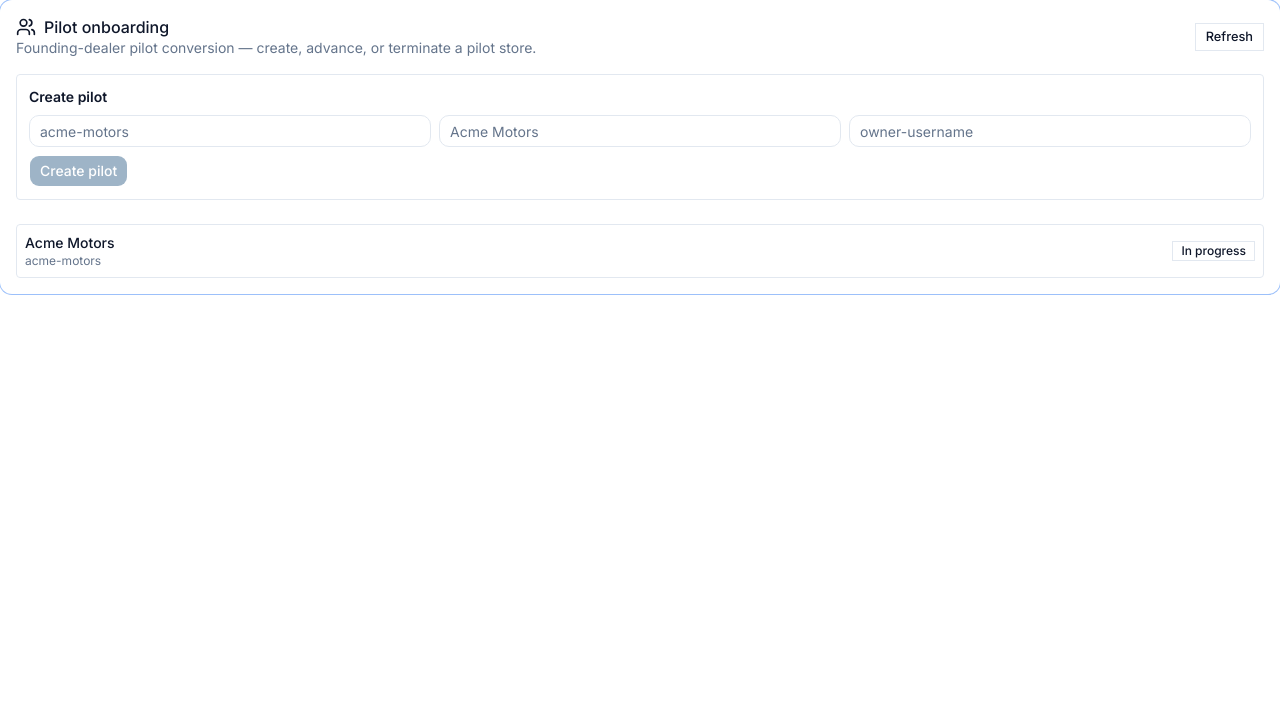
Test: PilotOnboardingSection › displays checklist steps in fixed vocab order
Click the button with test id "pilot-row-acme-motors".
click(70, 242)  # box [16,224,1264,278]
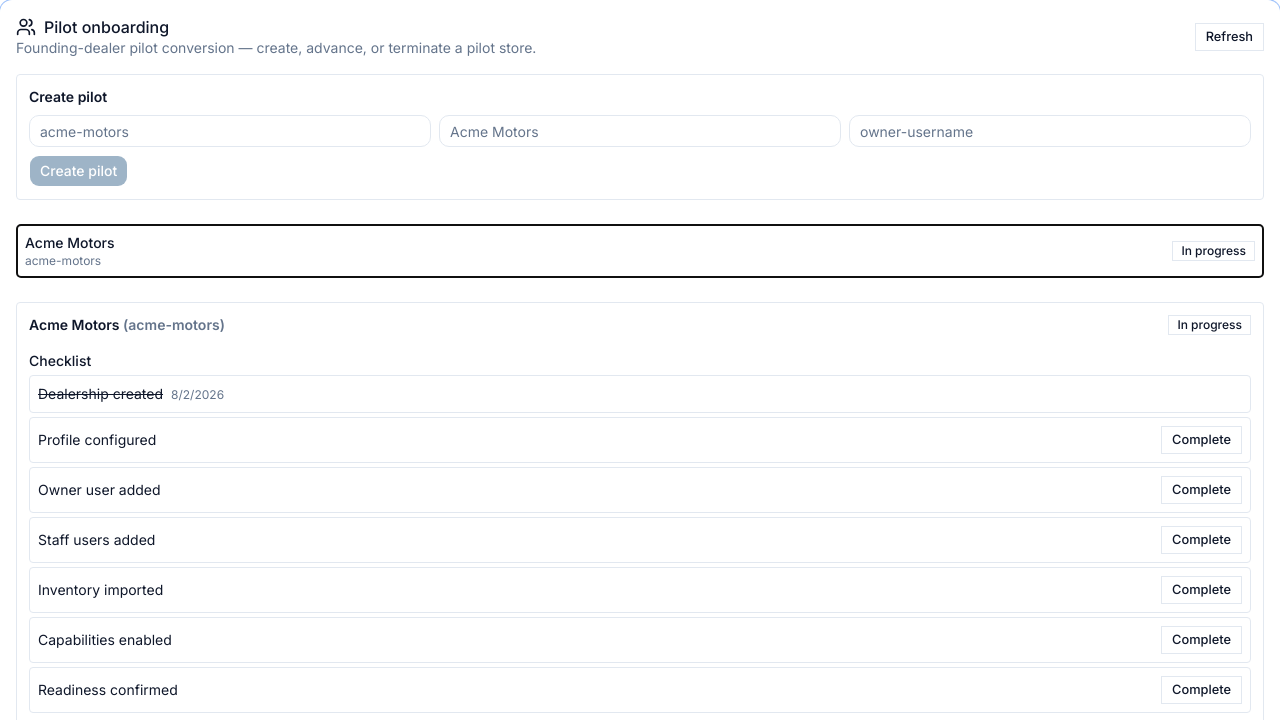
Now the element with test id "pilot-checklist" is shown, box [29,351,1251,713]
